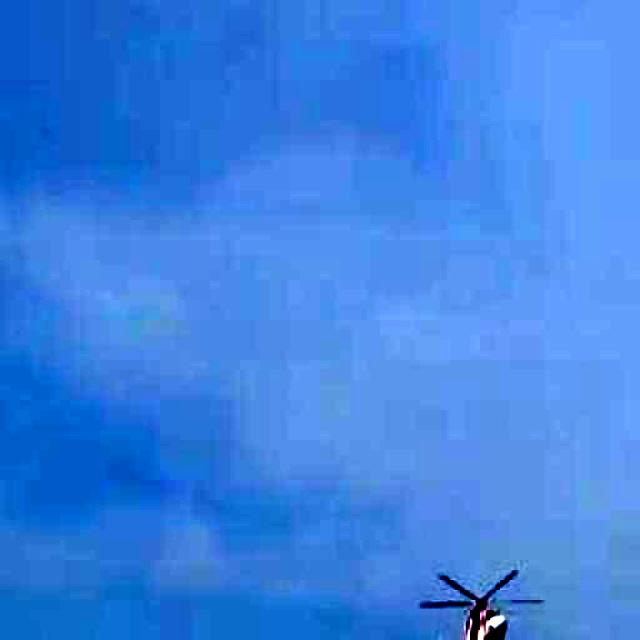drone: (412, 560, 539, 640)
